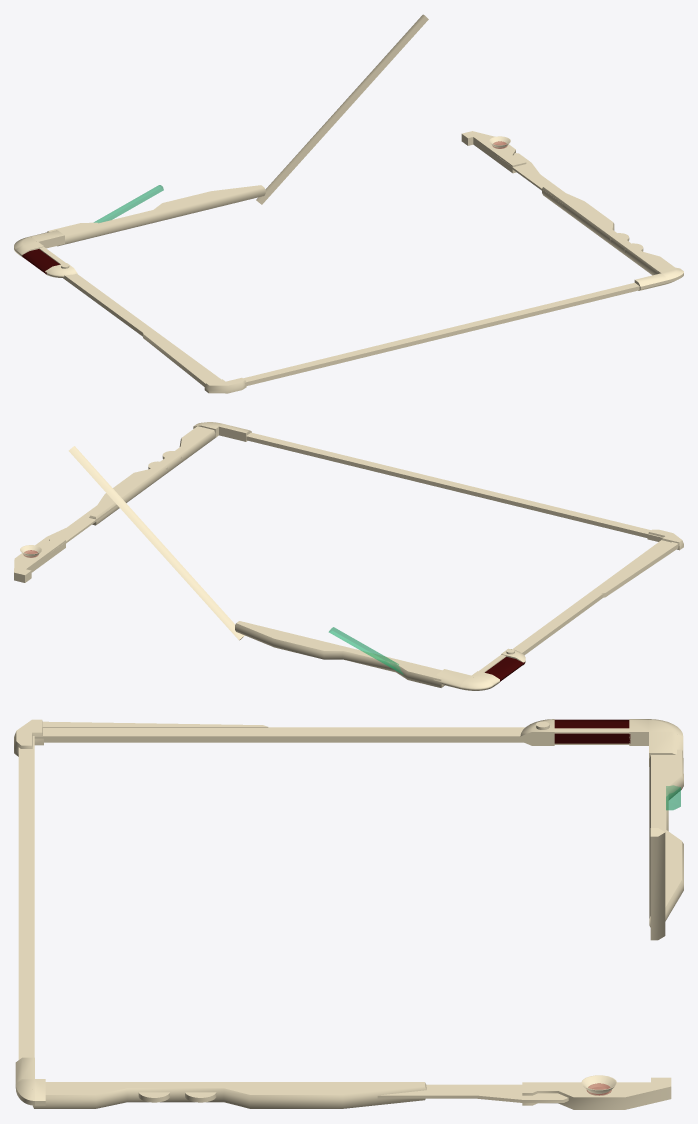
Rendered from Technowindow 3.1.dae.
3 views of the same model, one above another, from view 1: azimuth 30°, elevation 25°; view 2: azimuth 150°, elevation 25°; view 3: azimuth 270°, elevation 25° (orthographic). The views are drawn at different scales.
Visible parts, largest first — view 1: Polygon_Mesh (×9); view 2: Polygon_Mesh (×12); view 3: Polygon_Mesh (×14).
Boxes of the visible parts, left/top/right/bottom form: Polygon_Mesh (×9): left=47, top=14, right=683, bottom=386; Polygon_Mesh (×12): left=14, top=422, right=678, bottom=688; Polygon_Mesh (×14): left=14, top=719, right=683, bottom=1109.
Bounding box in the file's own units: 703 × 209 × 521.
